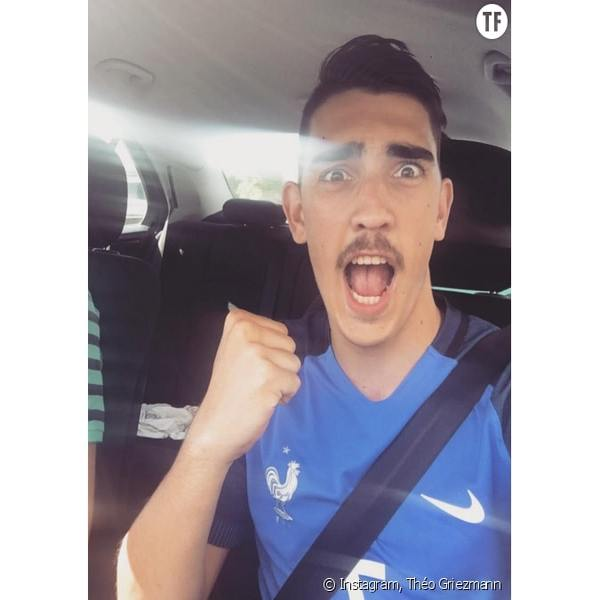nike: (419, 485, 490, 529)
